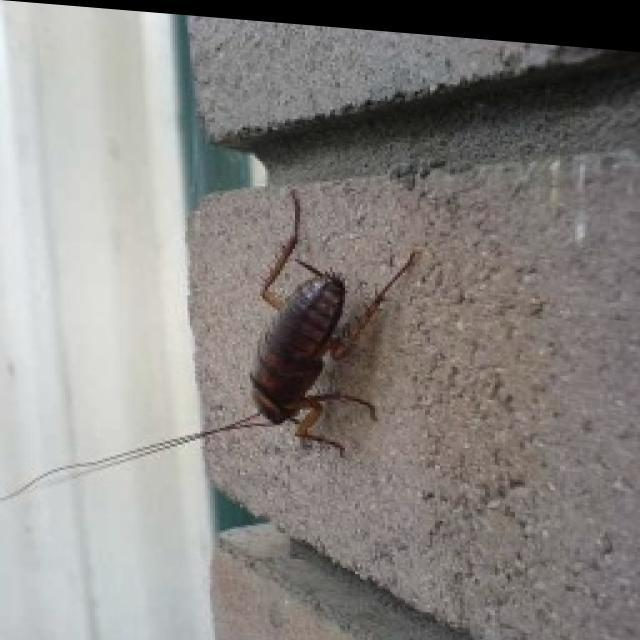cockroach: (247, 270, 350, 424)
